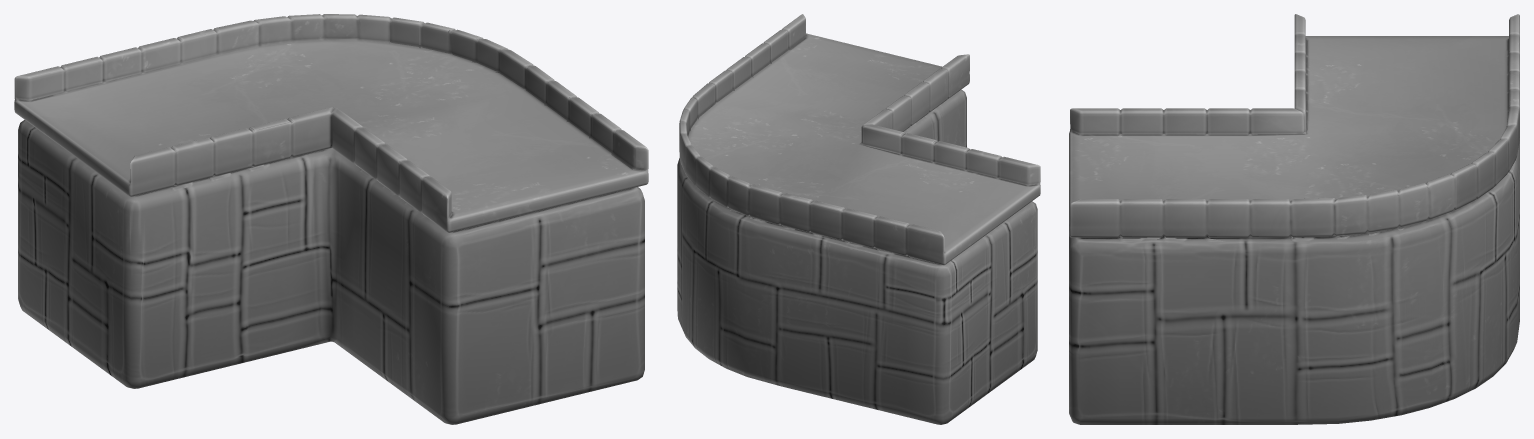
File: Corner Piece.fbx
3 renders of one model, left to right at view 1: azimuth 30°, elevation 25°; view 2: azimuth 150°, elevation 25°; view 3: azimuth 270°, elevation 25°, orthographic. The views are drawn at different scales.
Visible parts, largest first — view 1: Corner_low; view 2: Corner_low; view 3: Corner_low.
Boxes of the visible parts, x1,y1,x2,y2 form: Corner_low: (14,14,648,424); Corner_low: (677,14,1040,424); Corner_low: (1069,14,1519,424).
Bounding box in the file's own units: 200 × 111 × 200.
1 material, 1 textured.
